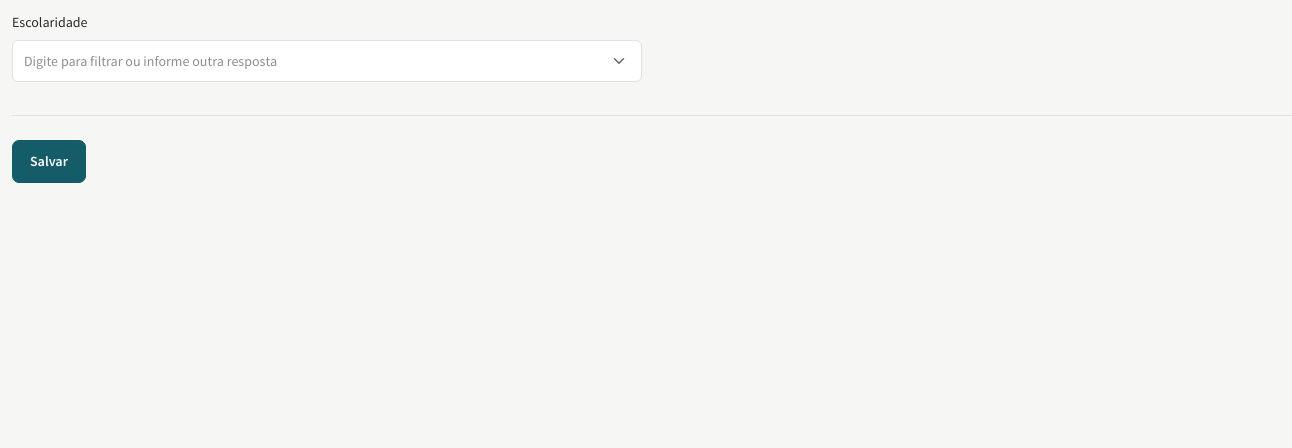
Scenario: filters suggestions and also saves a custom answer
Later steps or results of the test are not shown.
Type "medio completo" into the dropdown named "Escolaridade".
click(327, 61); type("medio completo")  # box left=12, top=40, right=642, bottom=82
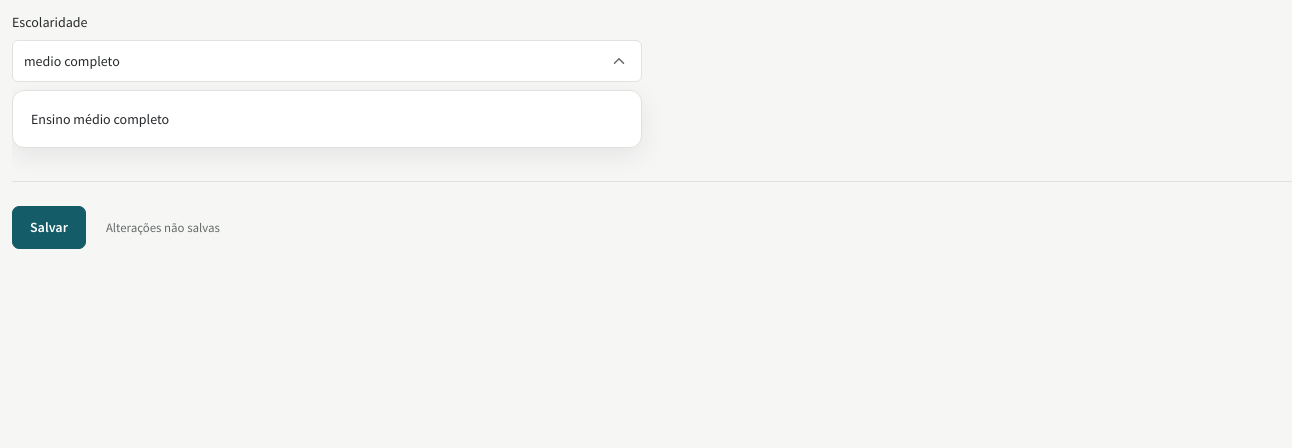
expect the option "Ensino superior completo" is not shown: met
expect the option "Ensino médio completo" is shown: met
Click the option "Ensino médio completo".
click(100, 118)  # box left=19, top=97, right=635, bottom=141
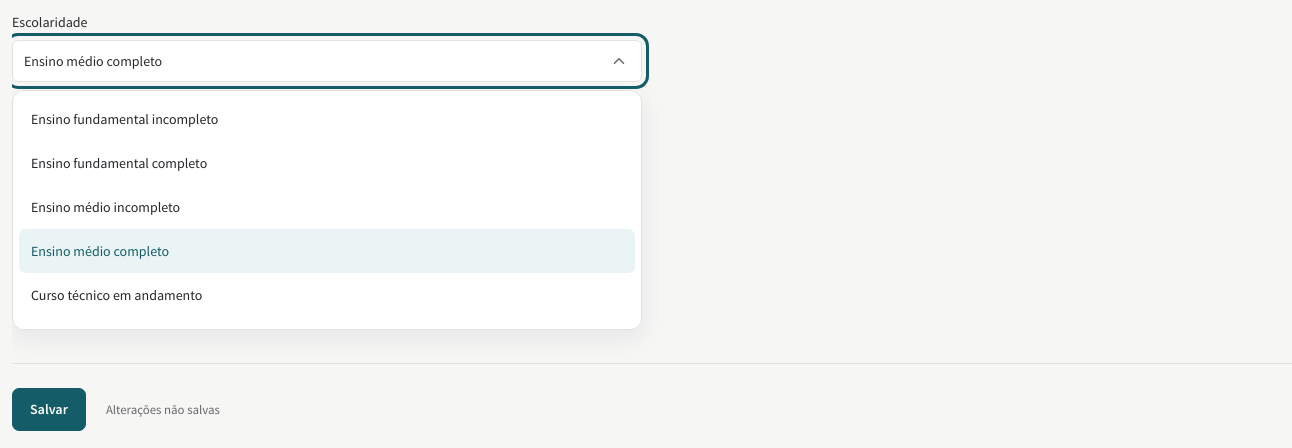
expect the dropdown named "Escolaridade" holds "Ensino médio completo": met, box left=12, top=40, right=642, bottom=82
